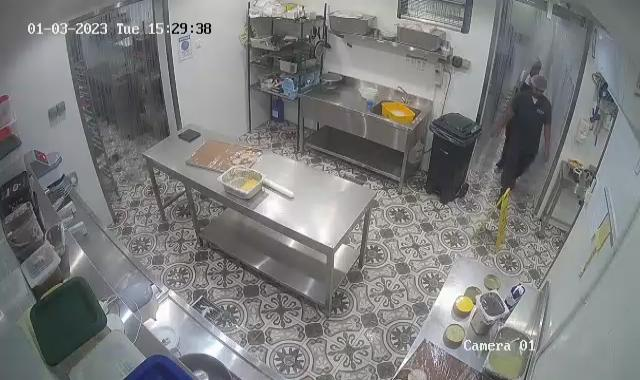hairnet: (526, 76, 551, 94)
